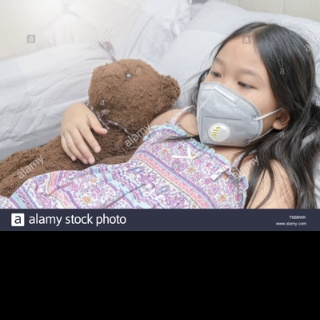with_mask: (195, 56, 278, 146)
